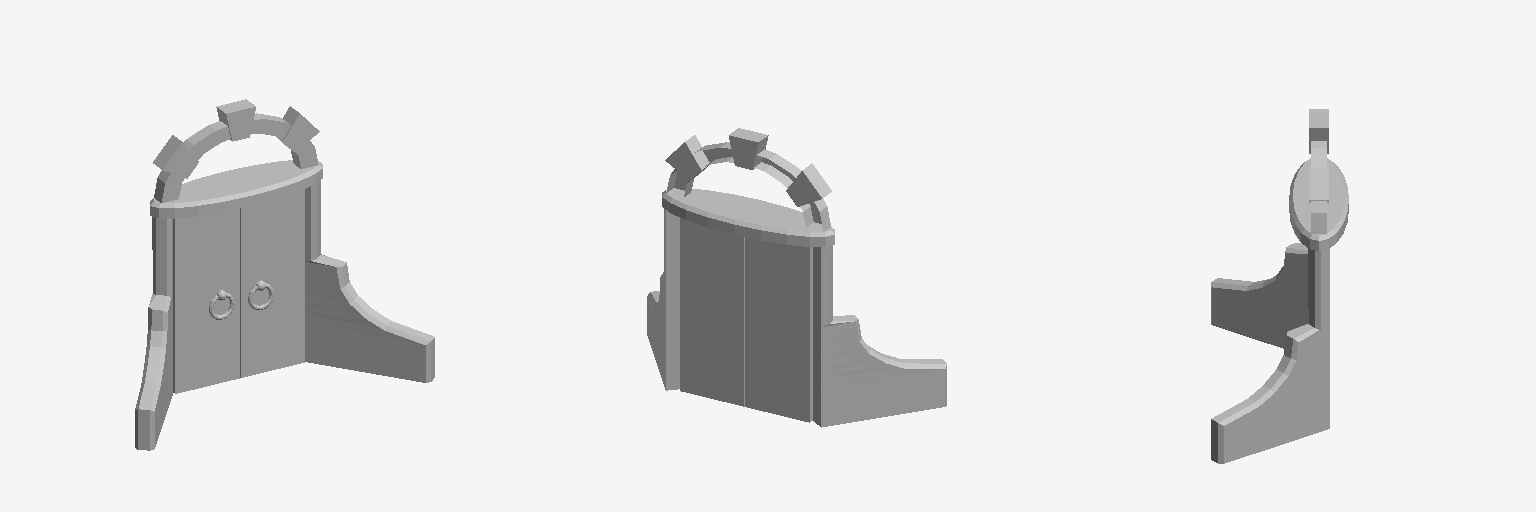
File: M_Transition2.obj
3 renders of one model, left to right at view 1: azimuth 30°, elevation 25°; view 2: azimuth 150°, elevation 25°; view 3: azimuth 270°, elevation 25°, orthographic.
Parts seen in each view (by area): view 1: M_DoorWay:pCube15; view 2: M_DoorWay:pCube15; view 3: M_DoorWay:pCube15.
Boxes of the visible parts, x1,y1,x2,y2 form: M_DoorWay:pCube15: [135, 99, 434, 450]; M_DoorWay:pCube15: [647, 128, 946, 427]; M_DoorWay:pCube15: [1211, 109, 1348, 463].
Bounding box in the file's own units: 17.2 × 14.9 × 6.9.